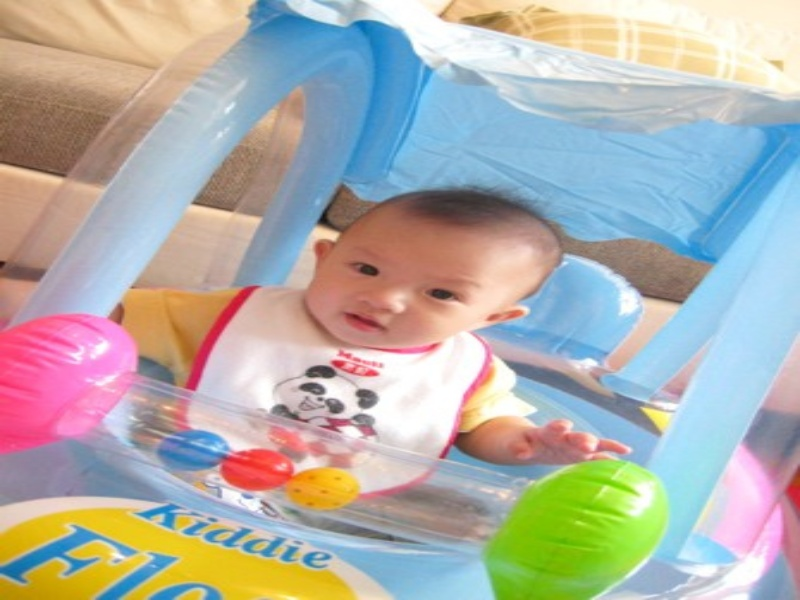person: (107, 190, 633, 534)
